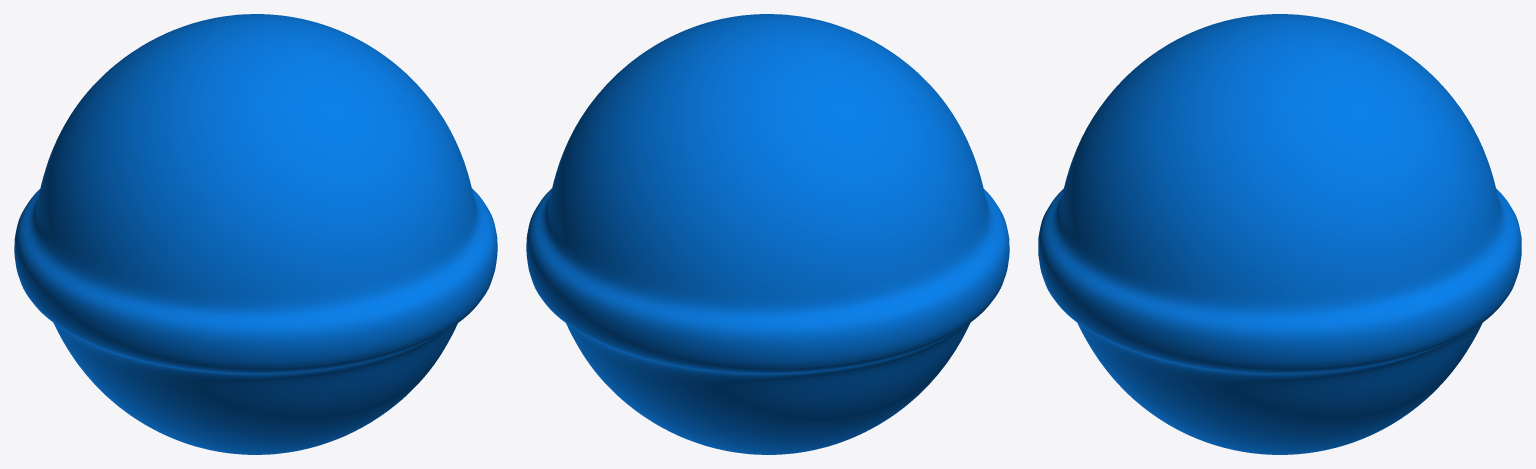
The model's file is maviseker2.fbx.
The picture shows the model from 3 angles, left to right: view 1: azimuth 30°, elevation 25°; view 2: azimuth 150°, elevation 25°; view 3: azimuth 270°, elevation 25°; orthographic projection.
Visible parts, largest first — view 1: maviseker.001; view 2: maviseker.001; view 3: maviseker.001.
Boxes of the visible parts, box(x1,y1,x2,y2) form: maviseker.001: box(14, 14, 497, 454); maviseker.001: box(526, 14, 1009, 454); maviseker.001: box(1038, 14, 1521, 454).
Bounding box in the file's own units: 74.96 × 68.41 × 74.96.
